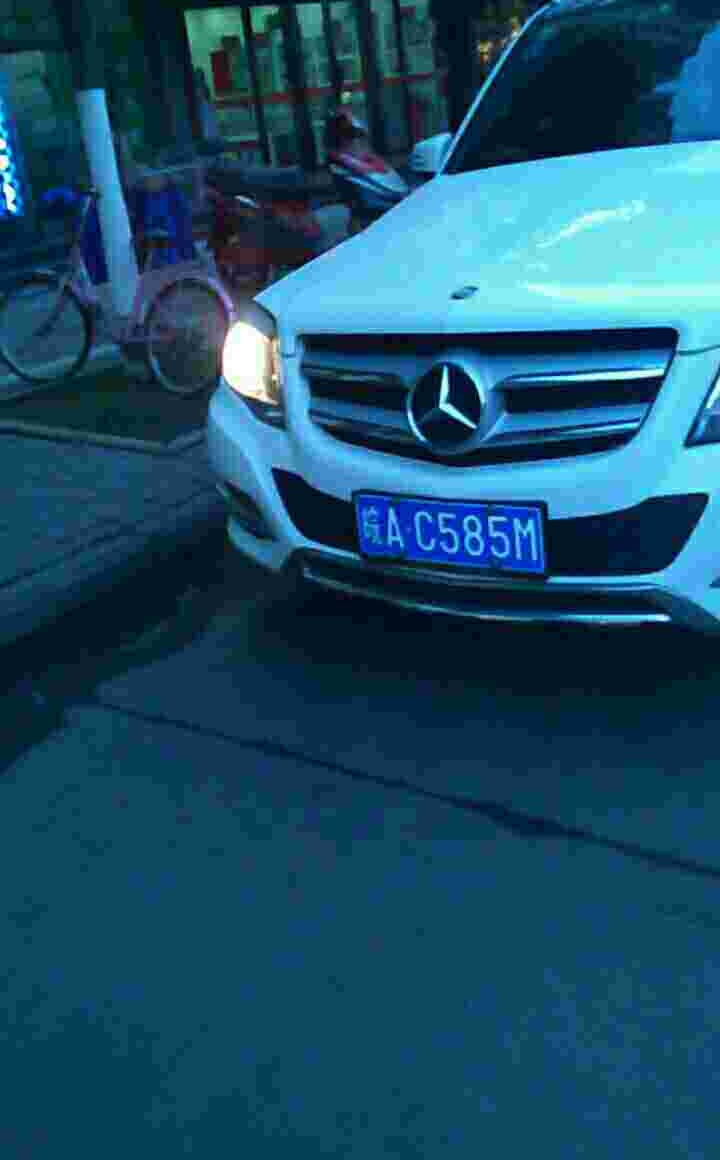license_plate: (357, 494, 551, 575)
